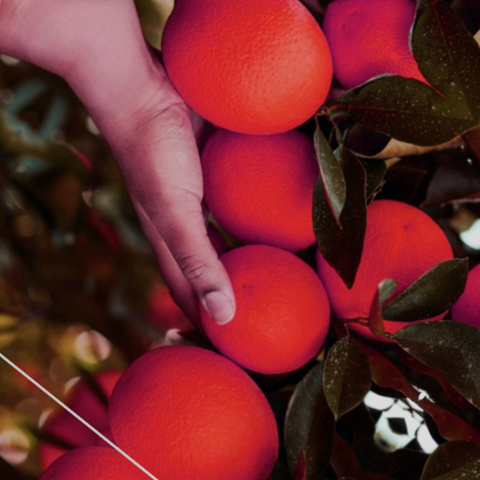orange: (84, 293, 335, 480), (127, 0, 378, 183), (165, 210, 375, 416)
